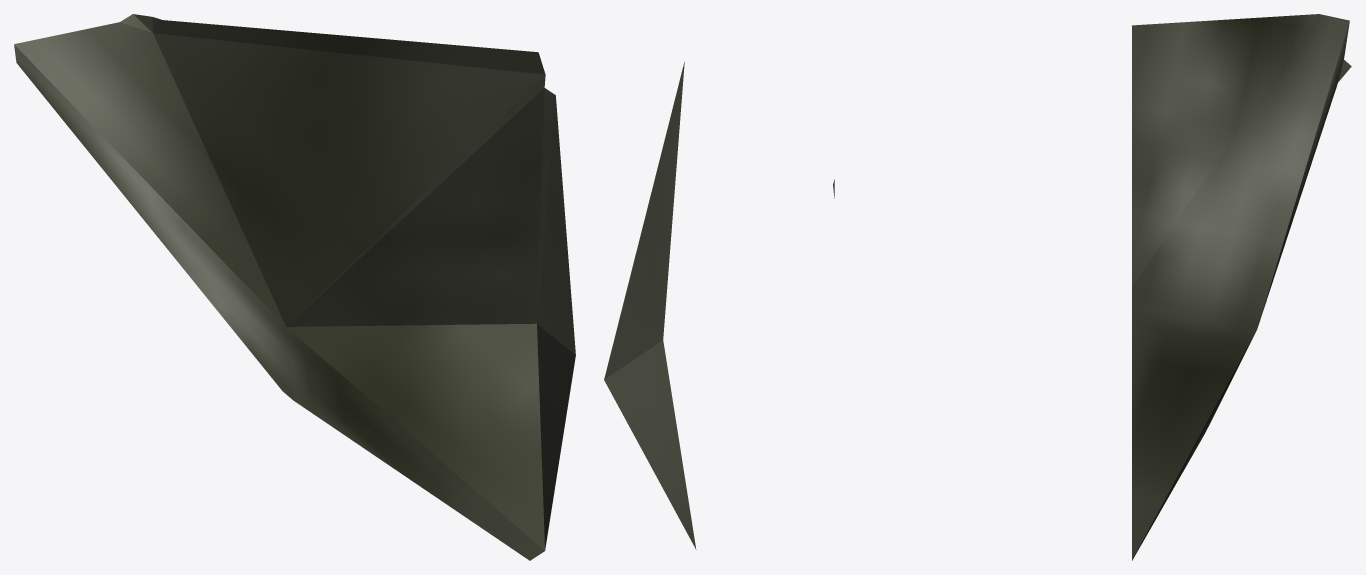
The picture shows the model from 3 angles, left to right: view 1: azimuth 30°, elevation 25°; view 2: azimuth 150°, elevation 25°; view 3: azimuth 270°, elevation 25°; orthographic projection. The views are drawn at different scales.
Size of the model in its own units: 0.1267 by 0.137 by 0.0689.
1 material, 1 textured.
